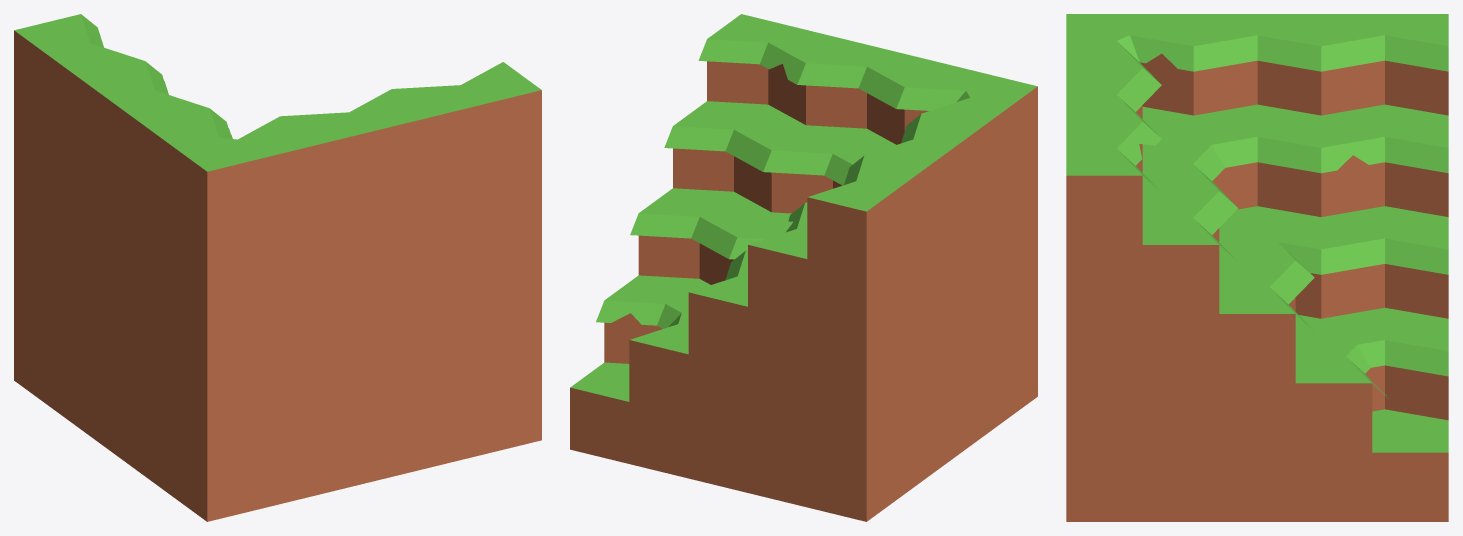
File: cliff_stepsCornerInner_rock.glb
3 views of the same model, side by side, from view 1: azimuth 30°, elevation 25°; view 2: azimuth 150°, elevation 25°; view 3: azimuth 270°, elevation 25° (orthographic). The views are drawn at different scales.
Parts seen in each view (by area): view 1: cliff_stepsCornerInner_rock; view 2: cliff_stepsCornerInner_rock; view 3: cliff_stepsCornerInner_rock.
Boxes of the visible parts, bbox=[...] form: cliff_stepsCornerInner_rock: bbox=[14, 14, 541, 521]; cliff_stepsCornerInner_rock: bbox=[570, 14, 1037, 521]; cliff_stepsCornerInner_rock: bbox=[1066, 14, 1448, 521].
Bounding box in the file's own units: 1 × 1 × 1.
